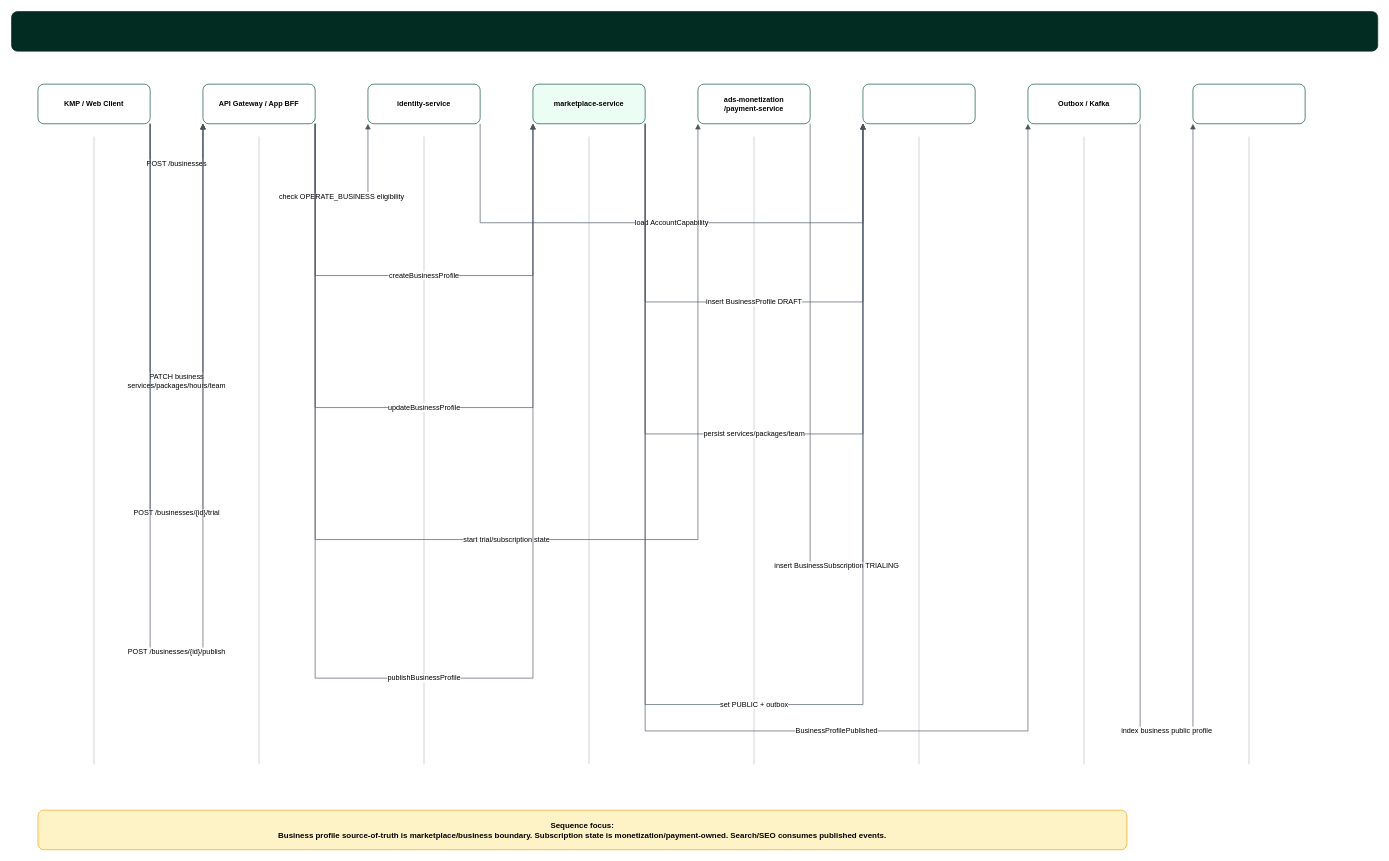
Image size: 1389x861. Some labels were removed from this diagram. The shapes that lost their labels are listed below. From the top down, each one's centre as x and y in pixels, then its label:
At (x=694, y=31): "Viaverse Business Mode — Sequence Diagram".
At (x=918, y=103): "PostgreSQL".
At (x=1248, y=103): "search / SEO".
